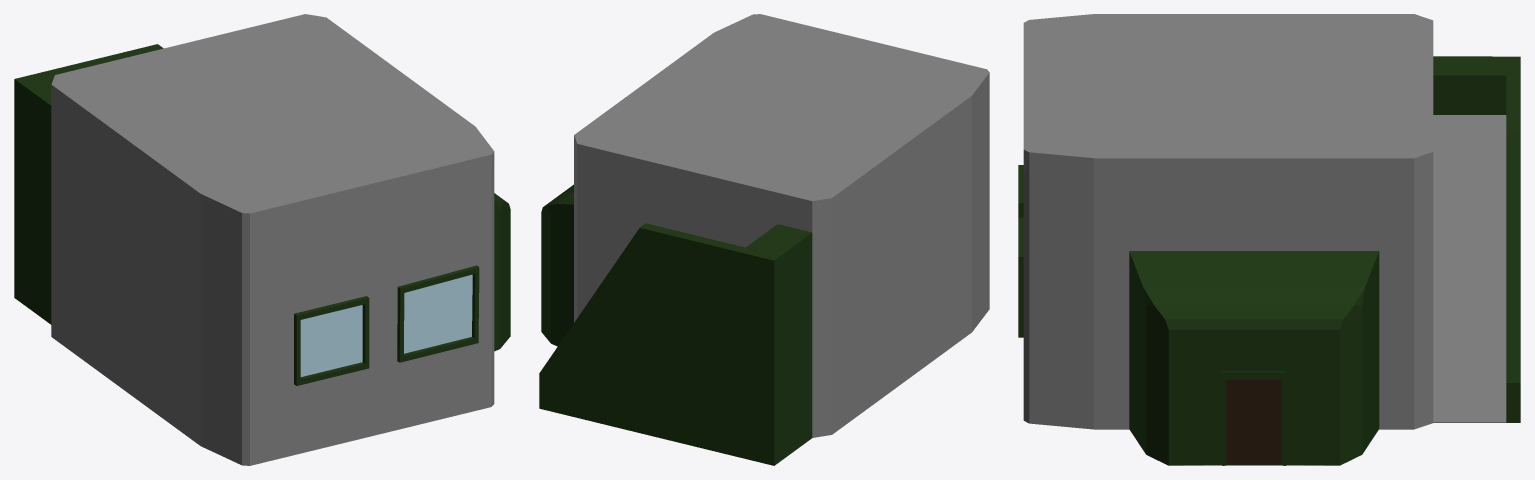
The model's file is Building_MilitaryHouseHelPad.fbx.
The picture shows the model from 3 angles, left to right: view 1: azimuth 30°, elevation 25°; view 2: azimuth 150°, elevation 25°; view 3: azimuth 270°, elevation 25°; orthographic projection. The views are drawn at different scales.
Parts seen in each view (by area): view 1: Cube; view 2: Cube; view 3: Cube.
Boxes of the visible parts, x1,y1,x2,y2 form: Cube: (14, 14, 510, 465); Cube: (539, 14, 989, 465); Cube: (1018, 14, 1520, 465).
Bounding box in the file's own units: 486 × 338 × 567.
